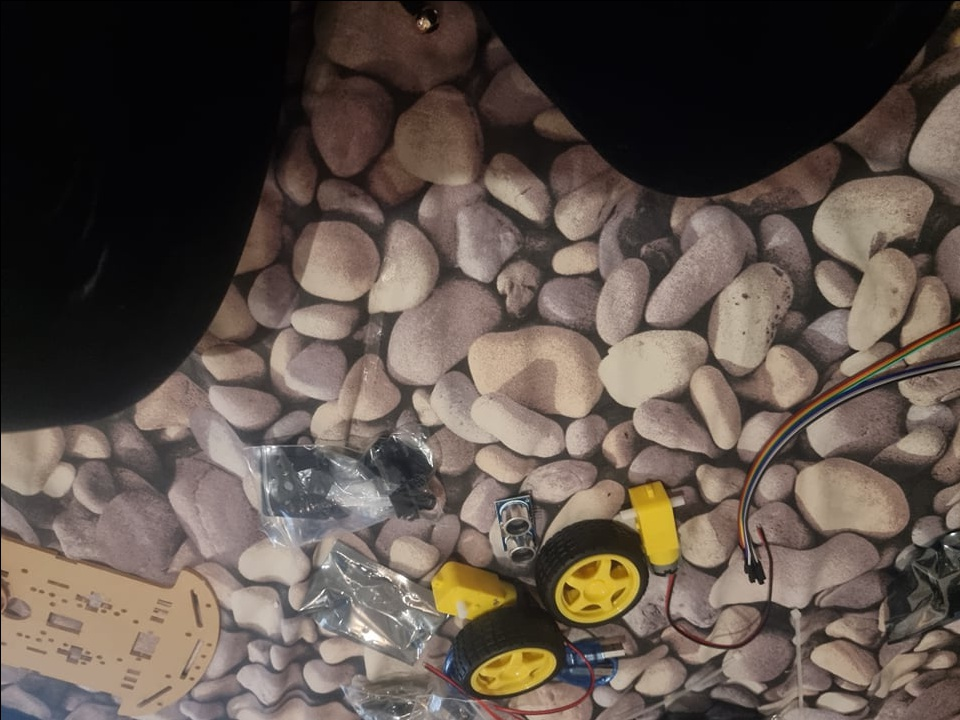SENSOR: (495, 492, 538, 562)
